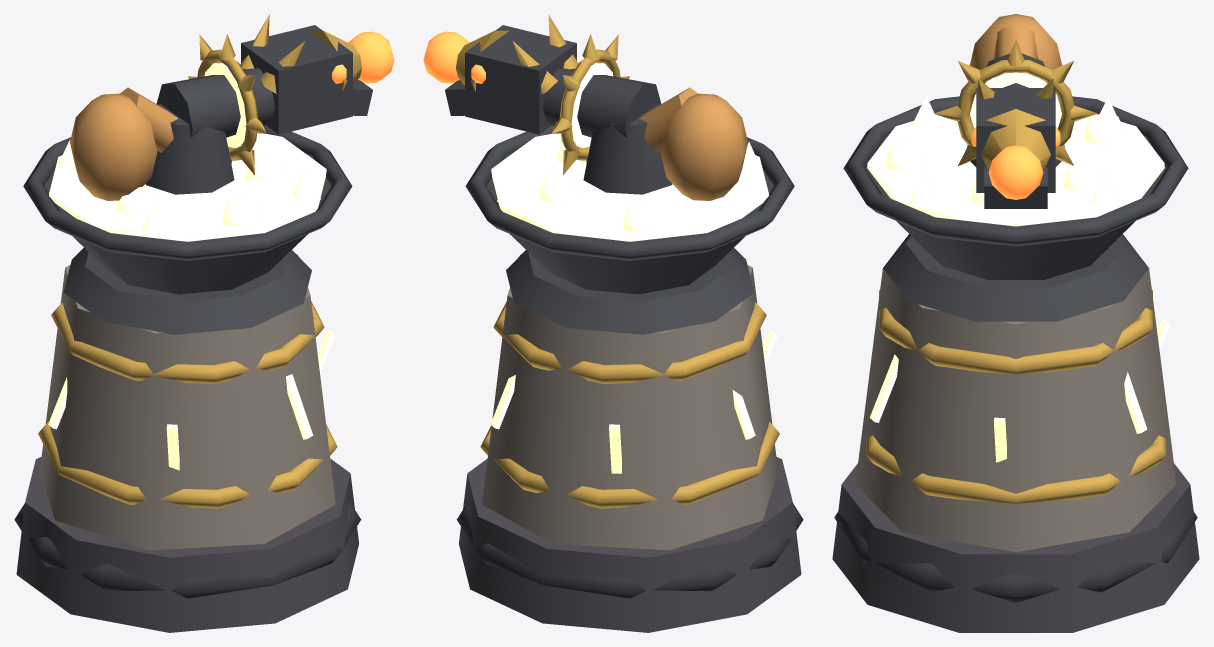
The model's file is tower_flame_sunfire.glb.
3 views of the same model, side by side, from view 1: azimuth 30°, elevation 25°; view 2: azimuth 150°, elevation 25°; view 3: azimuth 270°, elevation 25° (orthographic). The views are drawn at different scales.
Parts seen in each view (by area): view 1: body, base, coals, brazier_foot, brazier_lip, dragon_head, gas_tank, brazier_bowl, soot_ring, nozzle_post, body_band_0.3, neck (+11 smaller); view 2: body, base, coals, brazier_foot, brazier_lip, dragon_head, gas_tank, brazier_bowl, soot_ring, nozzle_post, body_band_0.3, neck (+12 smaller); view 3: body, base, coals, brazier_foot, brazier_lip, brazier_bowl, body_band_0.3, soot_ring, body_band_0.15, dragon_head, sun_ring, dragon_muzzle (+14 smaller).
Boxes of the visible parts, x1,y1,x2,y2 form: body: (40, 254, 335, 550); base: (16, 456, 358, 632); coals: (49, 133, 326, 241); brazier_foot: (63, 248, 311, 334); brazier_lip: (23, 125, 352, 260); dragon_head: (241, 25, 352, 134); gas_tank: (70, 93, 157, 200); brazier_bowl: (44, 152, 331, 294); soot_ring: (14, 503, 361, 598); nozzle_post: (145, 103, 234, 194); body_band_0.3: (51, 301, 324, 383); neck: (156, 68, 275, 137); body: (482, 254, 777, 550); base: (459, 456, 801, 632); coals: (491, 133, 768, 241); brazier_foot: (506, 248, 754, 334); brazier_lip: (465, 125, 794, 260); dragon_head: (465, 25, 576, 134); gas_tank: (660, 93, 747, 200); brazier_bowl: (486, 152, 773, 294); soot_ring: (456, 503, 803, 598); nozzle_post: (583, 103, 672, 194); body_band_0.3: (493, 301, 766, 383); neck: (542, 68, 661, 137); body: (855, 268, 1176, 551); base: (832, 463, 1199, 632); coals: (867, 114, 1164, 226); brazier_foot: (883, 234, 1148, 321); brazier_lip: (843, 96, 1188, 246); brazier_bowl: (865, 135, 1166, 279); body_band_0.3: (879, 290, 1152, 374); soot_ring: (834, 511, 1197, 602); body_band_0.15: (866, 435, 1165, 503); dragon_head: (976, 88, 1055, 192); sun_ring: (957, 60, 1074, 146); dragon_muzzle: (972, 109, 1059, 169).
Bounding box in the file's own units: 0.4671 × 0.65 × 0.4.
